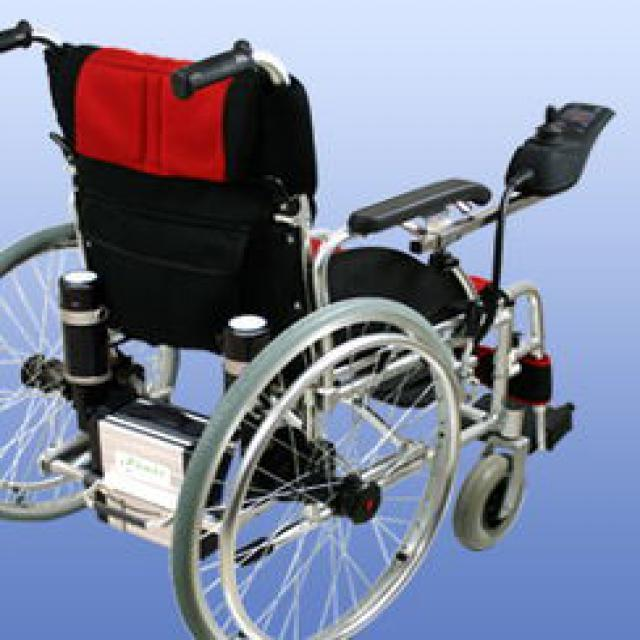wheelchairs: (0, 14, 577, 640)
